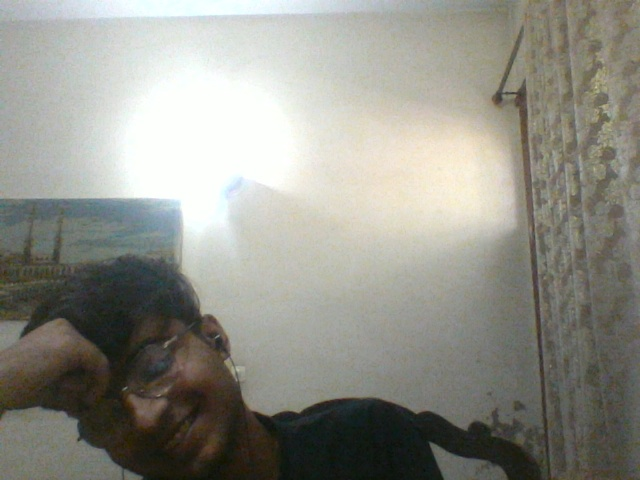happy: (103, 347, 227, 461)
